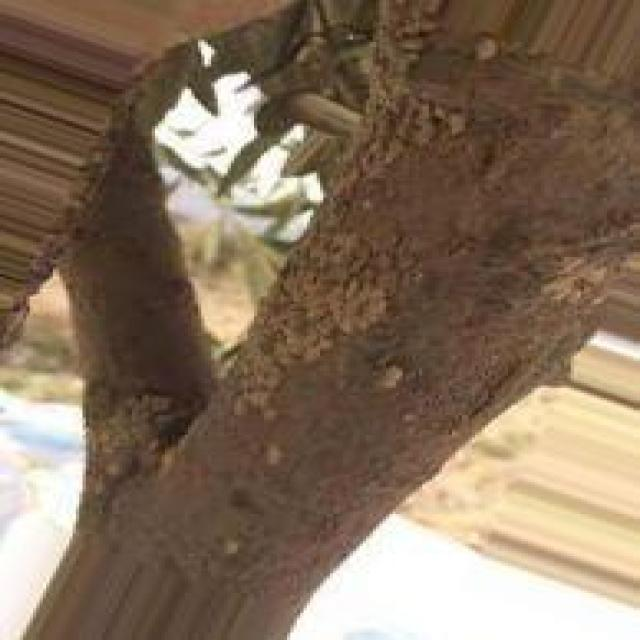Tuberculosis: (218, 222, 391, 420)
